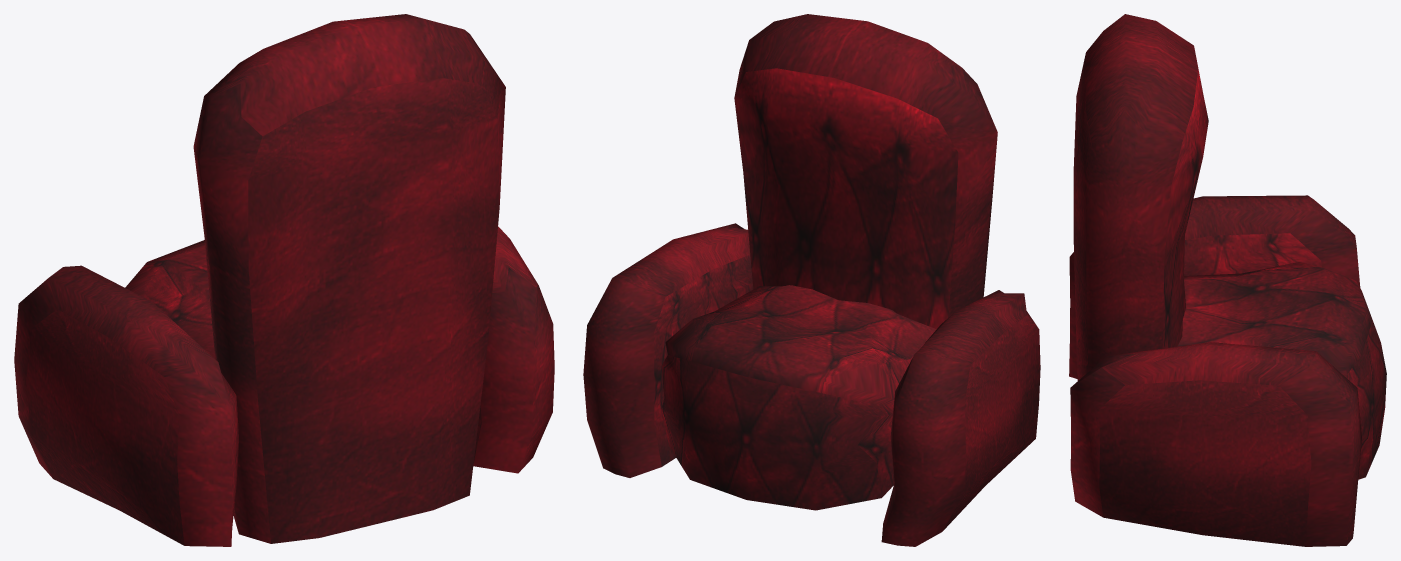
File: english_fauteil_red.FBX
3 renders of one model, left to right at view 1: azimuth 30°, elevation 25°; view 2: azimuth 150°, elevation 25°; view 3: azimuth 270°, elevation 25°, orthographic. The views are drawn at different scales.
Parts seen in each view (by area): view 1: fauteil_ang12; view 2: fauteil_ang12; view 3: fauteil_ang12.
Boxes of the visible parts, x1,y1,x2,y2 form: fauteil_ang12: (14,14,554,546); fauteil_ang12: (583,14,1040,546); fauteil_ang12: (1069,14,1386,546).
Bounding box in the file's own units: 1.15 × 1.21 × 0.8147.
